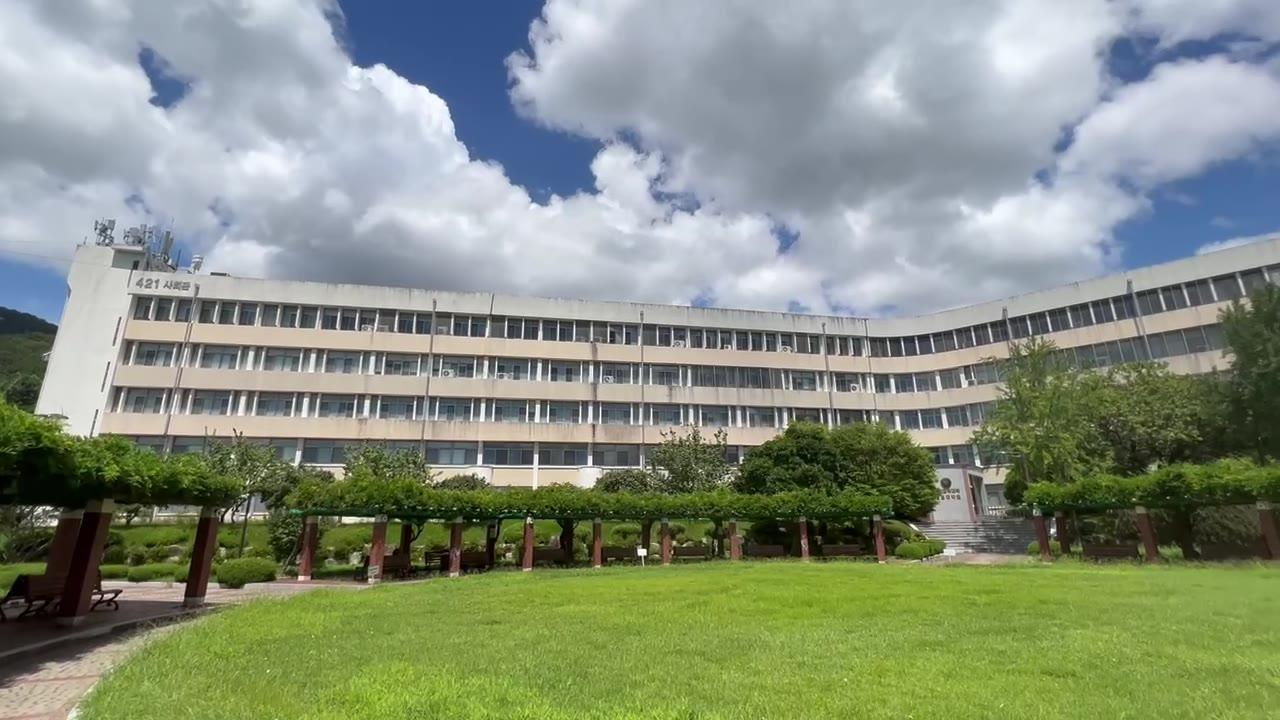building: (62, 255, 921, 420)
